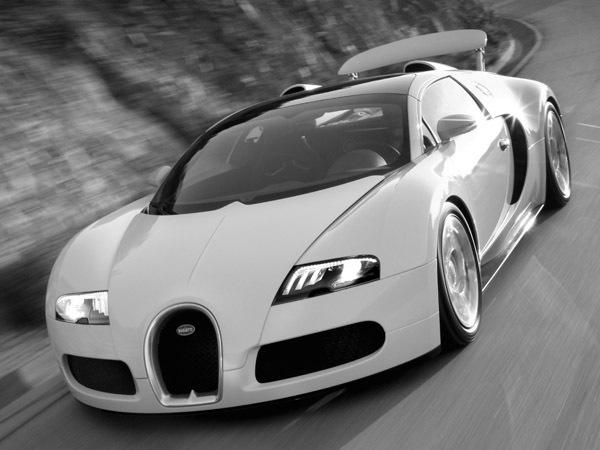car: (46, 31, 572, 417)
